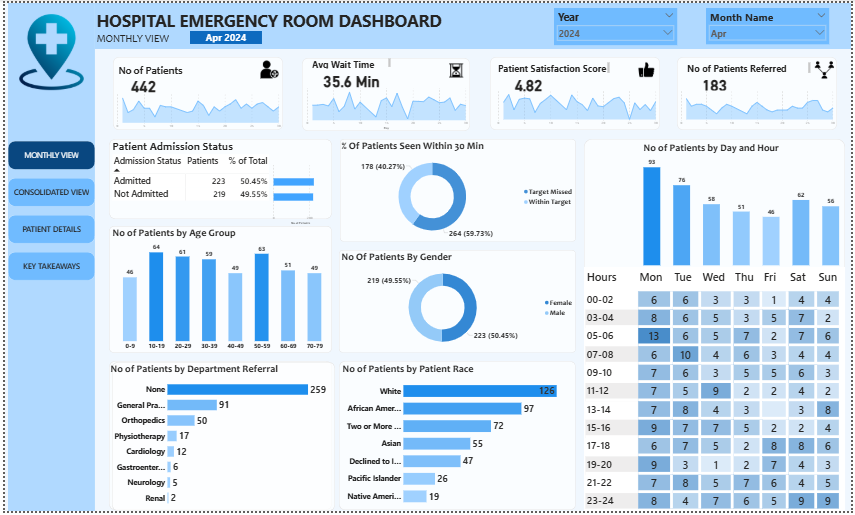

Layout of this report page (visuals, bound fields, positions):
{"tool":"powerbi","page":{"name":"MONTHLY VIEW","canvas":[3000,1800],"ordinal":0},"visuals":[{"type":"shape","box":[10.6,0,308.3,1800],"z":0},{"type":"shape","box":[318.9,0,2682.3,163],"z":1000},{"type":"shape","box":[382.7,191.3,602.4,258.7],"z":2000},{"type":"textbox","box":[318.9,0,1243.7,113.4],"z":3000},{"type":"textbox","box":[318.9,81.5,311.8,81.5],"z":4000},{"type":"card","fields":{"Values":["Hospital ER_Data.No of Patients"]},"box":[368.5,237.4,244.5,102.8],"z":5000},{"type":"slicer","fields":{"Values":["Date Table.Year"]},"box":[1945.3,17.7,435.8,131.1],"z":6000},{"type":"slicer","fields":{"Values":["Date Table.Month Name"]},"box":[2483.9,17.7,435.8,127.6],"z":7000},{"type":"textbox","box":[396.9,209.1,287,63.8],"z":8000},{"type":"areaChart","fields":{"Y":["Hospital ER_Data.No of Patients"],"Category":["Date Table.Date.Variation.Date Hierarchy.Day"]},"box":[382.7,308.3,602.4,145.3],"z":9000},{"type":"card","fields":{"Values":["Min(Date Table.Month & Year)"]},"box":[655.5,99.2,255.1,46.1],"z":10000},{"type":"shape","box":[1051.2,194.9,595.3,258.7],"z":11000},{"type":"card","fields":{"Values":["Hospital ER_Data.Avg Wait Time"]},"box":[1105.5,237.4,244.5,70.9],"z":12000},{"type":"textbox","box":[1084.3,191.3,287,46.1],"z":13000},{"type":"areaChart","fields":{"Category":["Date Table.Date.Variation.Date Hierarchy.Day"],"Y":["Avg(Hospital ER_Data.Patient Waittime)"]},"box":[1055.9,290.6,591.7,163],"z":14000},{"type":"shape","box":[1718.5,191.3,602.4,258.7],"z":15000},{"type":"card","fields":{"Values":["Hospital ER_Data.Satisfaction Score"]},"box":[1732.7,248,244.5,74.4],"z":16000},{"type":"textbox","box":[1743.3,205.5,403.9,49.6],"z":17000},{"type":"areaChart","fields":{"Category":["Date Table.Date.Variation.Date Hierarchy.Day"],"Y":["Hospital ER_Data.Satisfaction Score"]},"box":[1732.7,297.6,588.2,145.3],"z":18000},{"type":"shape","box":[2381.1,191.3,566.9,258.7],"z":19000},{"type":"shape","box":[368.5,481.9,790.2,283.5],"z":20000},{"type":"card","fields":{"Values":["Hospital ER_Data.No of Patients Referred"]},"box":[2444.9,255.1,138.2,60.2],"z":21000},{"type":"textbox","box":[2413,205.5,446.5,49.6],"z":22000},{"type":"areaChart","fields":{"Category":["Date Table.Date.Variation.Date Hierarchy.Day"],"Y":["Hospital ER_Data.No of Patients Referred"]},"box":[2381.1,297.6,566.9,145.3],"z":23000},{"type":"pivotTable","title":"Patient Admission Status","fields":{"Rows":["Hospital ER_Data.Admission Status"],"Values":["Hospital ER_Data.No of Patients1","Hospital ER_Data.No of Patients"]},"box":[375.6,481.9,783.1,283.5],"z":24000},{"type":"barChart","fields":{"Category":["Hospital ER_Data.Admission Status"],"Y":["Hospital ER_Data.No of Patients"]},"box":[942.5,559.8,216.1,230.3],"z":25000},{"type":"shape","box":[368.5,790.2,790.2,450],"z":26000},{"type":"clusteredColumnChart","fields":{"Category":["Hospital ER_Data.Age Group"],"Y":["Hospital ER_Data.No of Patients"]},"box":[375.6,790.2,790.2,450],"z":27000},{"type":"shape","box":[368.5,1268.5,790.2,528],"z":28000},{"type":"shape","box":[378.5,1272,790.2,528],"z":29000},{"type":"clusteredBarChart","fields":{"Category":["Hospital ER_Data.Department Referral"],"Y":["Hospital ER_Data.No of Patients"]},"box":[367.9,1271.4,775,528.6],"z":30000},{"type":"shape","box":[1185.7,482.1,835.7,364.3],"z":31000},{"type":"donutChart","title":"  % Of Patients Seen Within 30 Min","fields":{"Category":["Hospital ER_Data.Waittime Status"],"Y":["Hospital ER_Data.No of Patients"]},"box":[1185.7,482.1,835.7,364.3],"z":32000},{"type":"shape","box":[1182.1,875,839.3,364.3],"z":33000},{"type":"donutChart","title":"No Of Patients By Gender","fields":{"Category":["Hospital ER_Data.Patient Gender"],"Y":["Hospital ER_Data.No of Patients"]},"box":[1185.7,875,835.7,364.3],"z":34000},{"type":"shape","box":[1182.1,1267.9,839.3,528.6],"z":35000},{"type":"clusteredBarChart","fields":{"Y":["Hospital ER_Data.No of Patients"],"Category":["Hospital ER_Data.Patient Race"]},"box":[1189.3,1271.4,832.1,528.6],"z":36000},{"type":"shape","box":[2050,482.1,925,1314.3],"z":37000},{"type":"pivotTable","fields":{"Rows":["Hospital ER_Data.Waittime Intervel"],"Columns":["Date Table.Day Name"],"Values":["Hospital ER_Data.No of Patients"]},"box":[2050,935.7,925,864.3],"z":38000},{"type":"columnChart","title":"No of Patients by Day and Hour","fields":{"Category":["Date Table.Day Name"],"Y":["Hospital ER_Data.No of Patients"]},"box":[2257.1,489.3,707.1,446.4],"z":39000},{"type":"image","box":[24.8,31.9,279.9,283.5],"z":40000},{"type":"image","box":[889.4,198.4,95.7,74.4],"z":41000},{"type":"image","box":[2859.4,198.4,88.6,78],"z":42000},{"type":"image","box":[1548.4,209.1,99.2,60.2],"z":43000},{"type":"image","box":[2225.2,202,95.7,70.9],"z":44000},{"type":"pageNavigator","box":[10.6,489,308.3,496.1],"z":45000}]}

Visuals, with their boxes in screenshot pixels (x1, y1, x2, y2), scaled from the page's 3000x1800 canvas onto the 855x515 screenshot:
shape: 3, 0, 91, 514
shape: 91, 0, 854, 47
shape: 109, 55, 281, 129
textbox: 91, 0, 445, 32
textbox: 91, 23, 180, 47
card - Hospital ER_Data.No of Patients: 105, 68, 175, 97
slicer - Date Table.Year: 554, 5, 679, 43
slicer - Date Table.Month Name: 708, 5, 832, 42
textbox: 113, 60, 195, 78
areaChart - Hospital ER_Data.No of Patients x Date Table.Date.Variation.Date Hierarchy.Day: 109, 88, 281, 130
card - Min(Date Table.Month & Year): 187, 28, 260, 42
shape: 300, 56, 469, 130
card - Hospital ER_Data.Avg Wait Time: 315, 68, 385, 88
textbox: 309, 55, 391, 68
areaChart - Date Table.Date.Variation.Date Hierarchy.Day x Avg(Hospital ER_Data.Patient Waittime): 301, 83, 470, 130
shape: 490, 55, 661, 129
card - Hospital ER_Data.Satisfaction Score: 494, 71, 564, 92
textbox: 497, 59, 612, 73
areaChart - Date Table.Date.Variation.Date Hierarchy.Day x Hospital ER_Data.Satisfaction Score: 494, 85, 661, 127
shape: 679, 55, 840, 129
shape: 105, 138, 330, 219
card - Hospital ER_Data.No of Patients Referred: 697, 73, 736, 90
textbox: 688, 59, 815, 73
areaChart - Date Table.Date.Variation.Date Hierarchy.Day x Hospital ER_Data.No of Patients Referred: 679, 85, 840, 127
"Patient Admission Status" pivotTable: 107, 138, 330, 219
barChart - Hospital ER_Data.Admission Status x Hospital ER_Data.No of Patients: 269, 160, 330, 226
shape: 105, 226, 330, 355
clusteredColumnChart - Hospital ER_Data.Age Group x Hospital ER_Data.No of Patients: 107, 226, 332, 355
shape: 105, 363, 330, 514
shape: 108, 364, 333, 514
clusteredBarChart - Hospital ER_Data.Department Referral x Hospital ER_Data.No of Patients: 105, 364, 326, 514
shape: 338, 138, 576, 242
"  % Of Patients Seen Within 30 Min" donutChart: 338, 138, 576, 242
shape: 337, 250, 576, 355
"No Of Patients By Gender" donutChart: 338, 250, 576, 355
shape: 337, 363, 576, 514
clusteredBarChart - Hospital ER_Data.No of Patients x Hospital ER_Data.Patient Race: 339, 364, 576, 514
shape: 584, 138, 848, 514
pivotTable - Hospital ER_Data.Waittime Intervel x Date Table.Day Name: 584, 268, 848, 514
"No of Patients by Day and Hour" columnChart: 643, 140, 845, 268
image: 7, 9, 87, 90
image: 253, 57, 281, 78
image: 815, 57, 840, 79
image: 441, 60, 470, 77
image: 634, 58, 661, 78
pageNavigator: 3, 140, 91, 282
